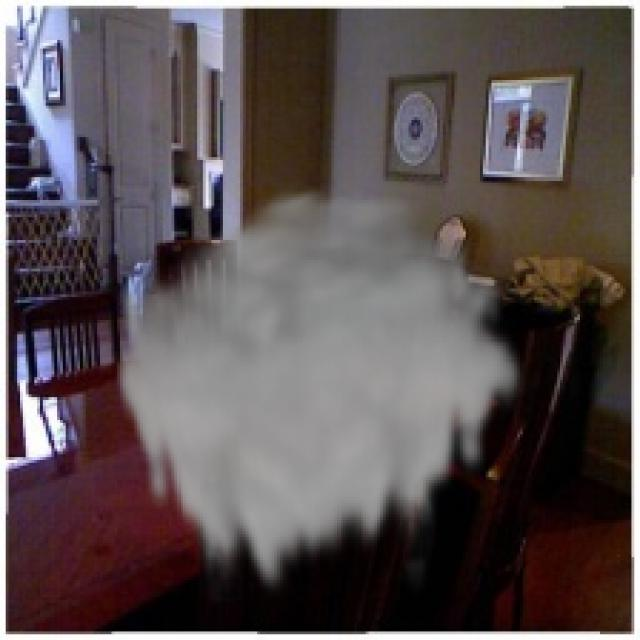smoke: (111, 180, 528, 606)
